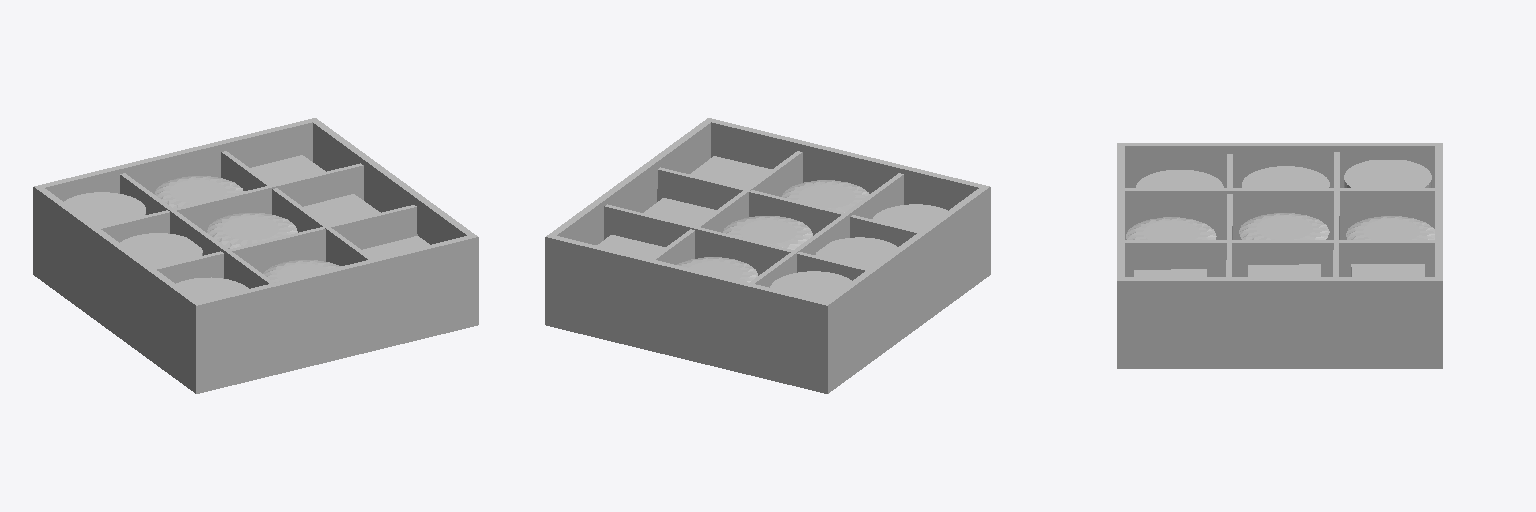
Rendered from kue kopiang.obj.
3 renders of one model, left to right at view 1: azimuth 30°, elevation 25°; view 2: azimuth 150°, elevation 25°; view 3: azimuth 270°, elevation 25°, orthographic.
Parts seen in each view (by area): view 1: Cube, Cube.003, Cube.004, Cube.001, Cube.002, Cylinder.002, Cylinder.003, Cube.007, Cube.005, Cylinder.018, Cylinder.019, Cylinder.001 (+3 smaller); view 2: Cube, Cube.004, Cube.003, Cube.001, Cube.002, Cylinder.003, Cylinder.002, Cube.006, Cylinder.001, Cube.007, Cylinder.019, Cylinder.021 (+5 smaller); view 3: Cube, Cube.002, Cube.001, Cylinder.002, Cylinder.003, Cylinder.001, Cylinder.019, Cylinder.017, Cylinder.018, Cube.005, Cylinder.021, Cube.007 (+5 smaller).
Part boxes in pixels (x1,y1,x2,y2): Cube: (33, 118, 478, 393); Cube.003: (154, 205, 417, 283); Cube.004: (99, 163, 363, 248); Cube.001: (221, 151, 372, 265); Cube.002: (120, 173, 273, 288); Cylinder.002: (64, 192, 145, 226); Cylinder.003: (120, 233, 202, 267); Cube.007: (304, 194, 380, 224); Cube.005: (250, 155, 325, 184); Cylinder.018: (207, 213, 297, 248); Cylinder.019: (222, 216, 279, 239); Cylinder.001: (176, 277, 248, 300); Cube: (545, 118, 990, 393); Cube.004: (604, 204, 867, 280); Cube.003: (657, 167, 919, 246); Cube.001: (651, 151, 802, 264); Cube.002: (750, 173, 903, 287); Cylinder.003: (815, 237, 897, 268); Cylinder.002: (770, 271, 851, 300); Cube.006: (690, 156, 771, 187); Cylinder.001: (872, 204, 947, 230); Cube.007: (644, 198, 715, 225); Cylinder.019: (740, 220, 796, 243); Cylinder.021: (798, 184, 855, 207); Cube: (1117, 143, 1442, 368); Cube.002: (1125, 188, 1434, 239); Cube.001: (1125, 240, 1434, 276); Cylinder.002: (1344, 160, 1431, 187); Cylinder.003: (1242, 166, 1329, 187); Cylinder.001: (1136, 170, 1223, 187); Cylinder.019: (1256, 216, 1312, 239); Cylinder.017: (1363, 219, 1419, 239); Cylinder.018: (1239, 213, 1329, 239); Cube.005: (1351, 264, 1424, 276); Cylinder.021: (1143, 221, 1200, 239); Cube.007: (1248, 264, 1320, 276).
Bounding box in the file's own units: 3.31 × 0.992 × 3.31.